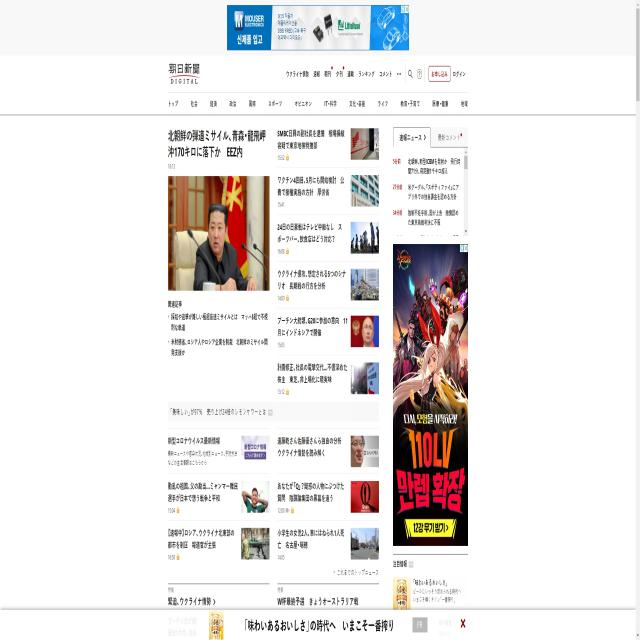menu-bar: (283, 68, 405, 85)
side-panel: (394, 129, 468, 242)
tab-bar: (164, 93, 468, 111)
